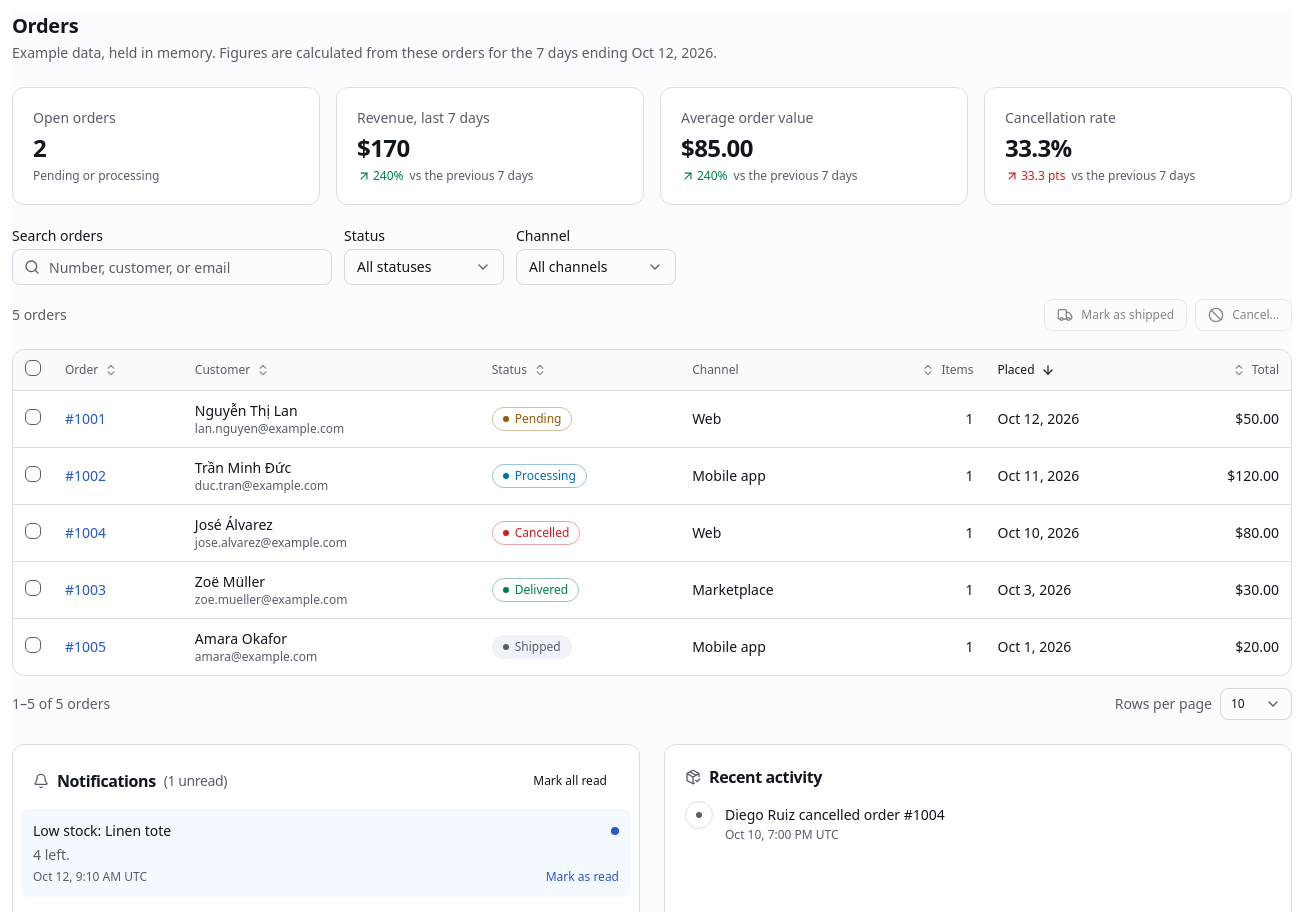
OrdersDashboard › drops selected rows that a new filter hides
Click the checkbox named "Select order #1001": (33,416) [25, 408, 41, 424]
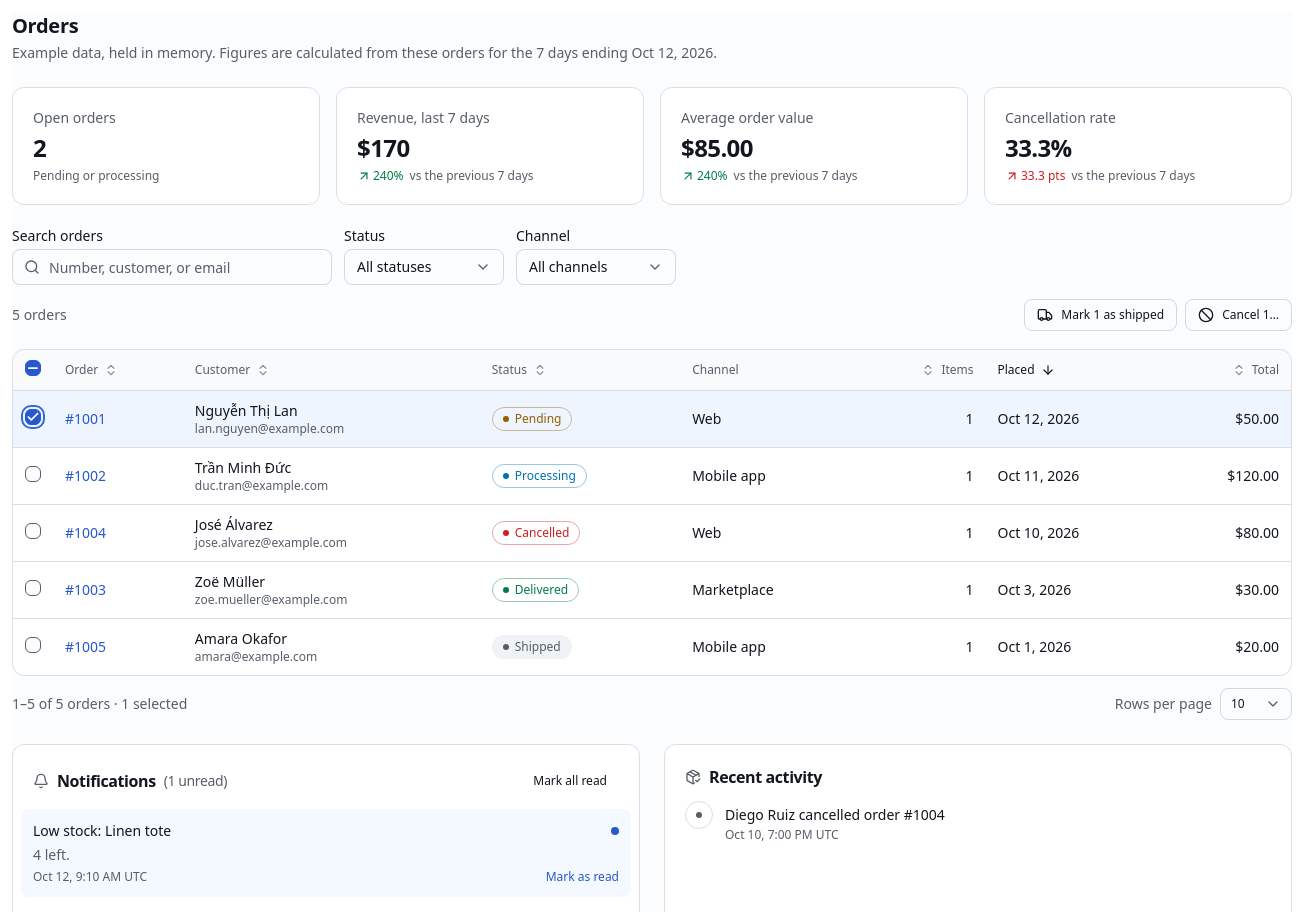
Click the checkbox named "Select order #1002": (33,474) [25, 466, 41, 482]
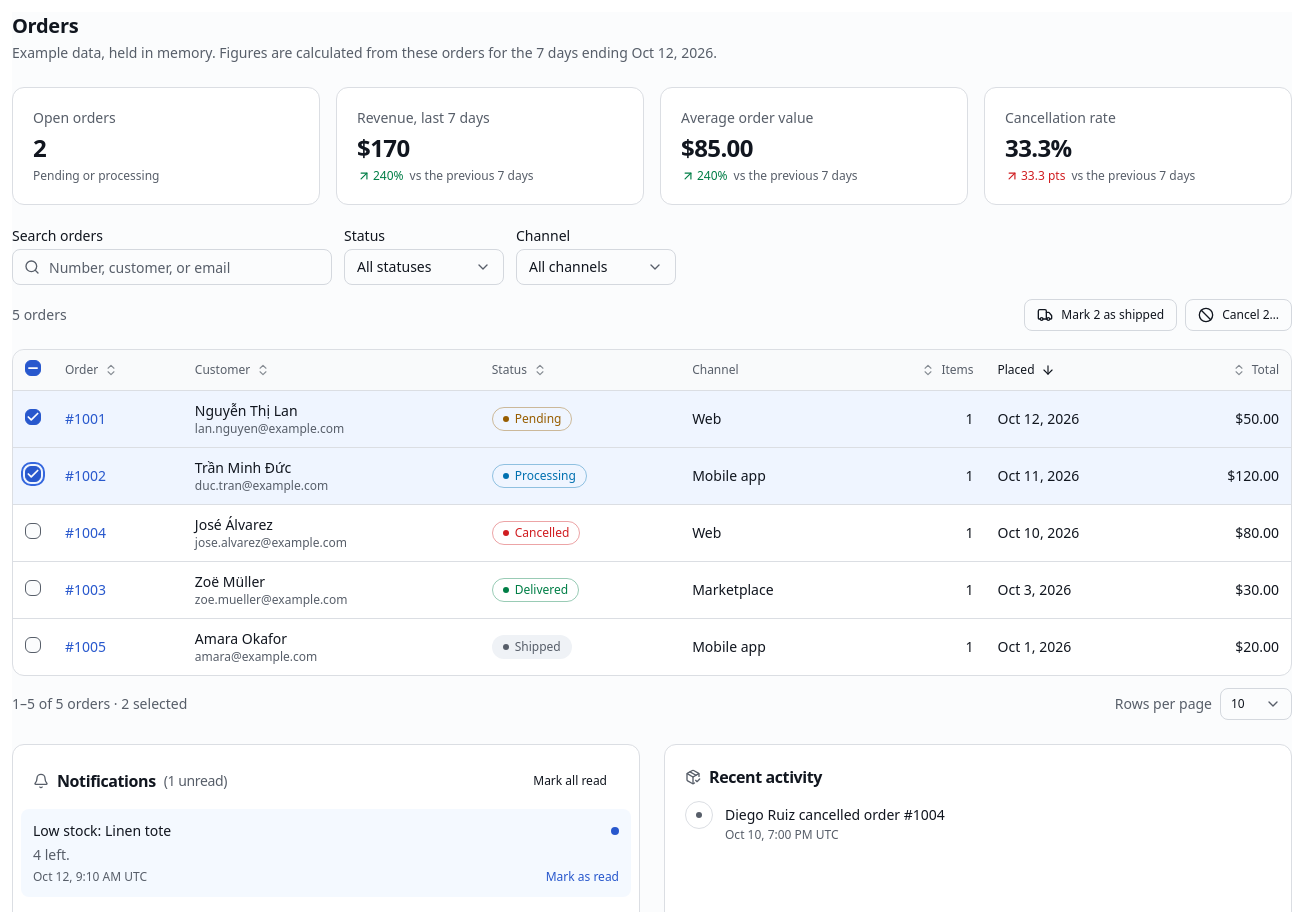
Check: the button "Mark 2 as shipped" is shown, box [1024, 299, 1177, 331]
In the search field labelled "Search orders": (172,267) [12, 249, 332, 285], type "duc"
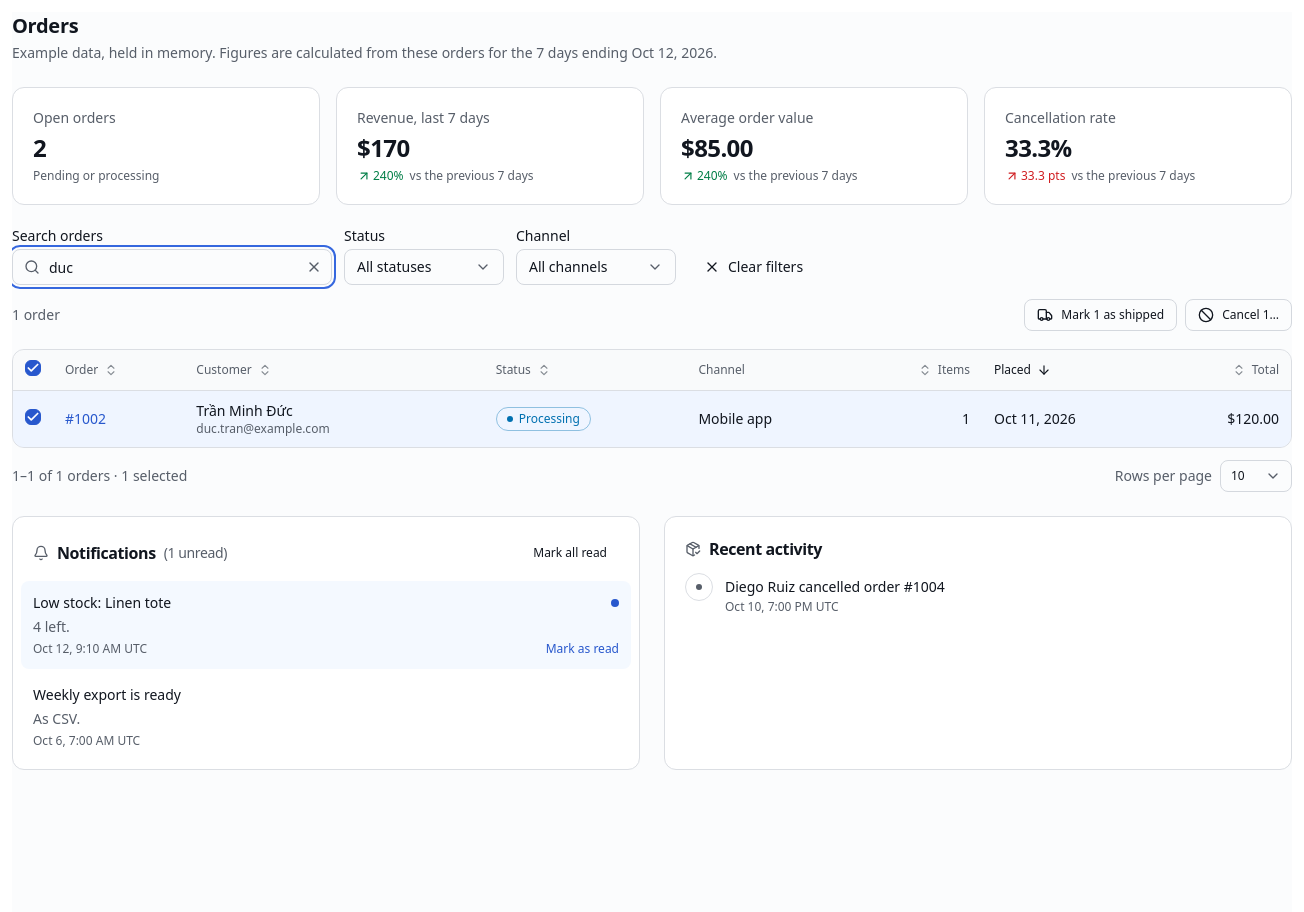
Check: the button "Mark 1 as shipped" is shown, box [1024, 299, 1177, 331]
Clear the search field labelled "Search orders": (172,267) [12, 249, 332, 285]
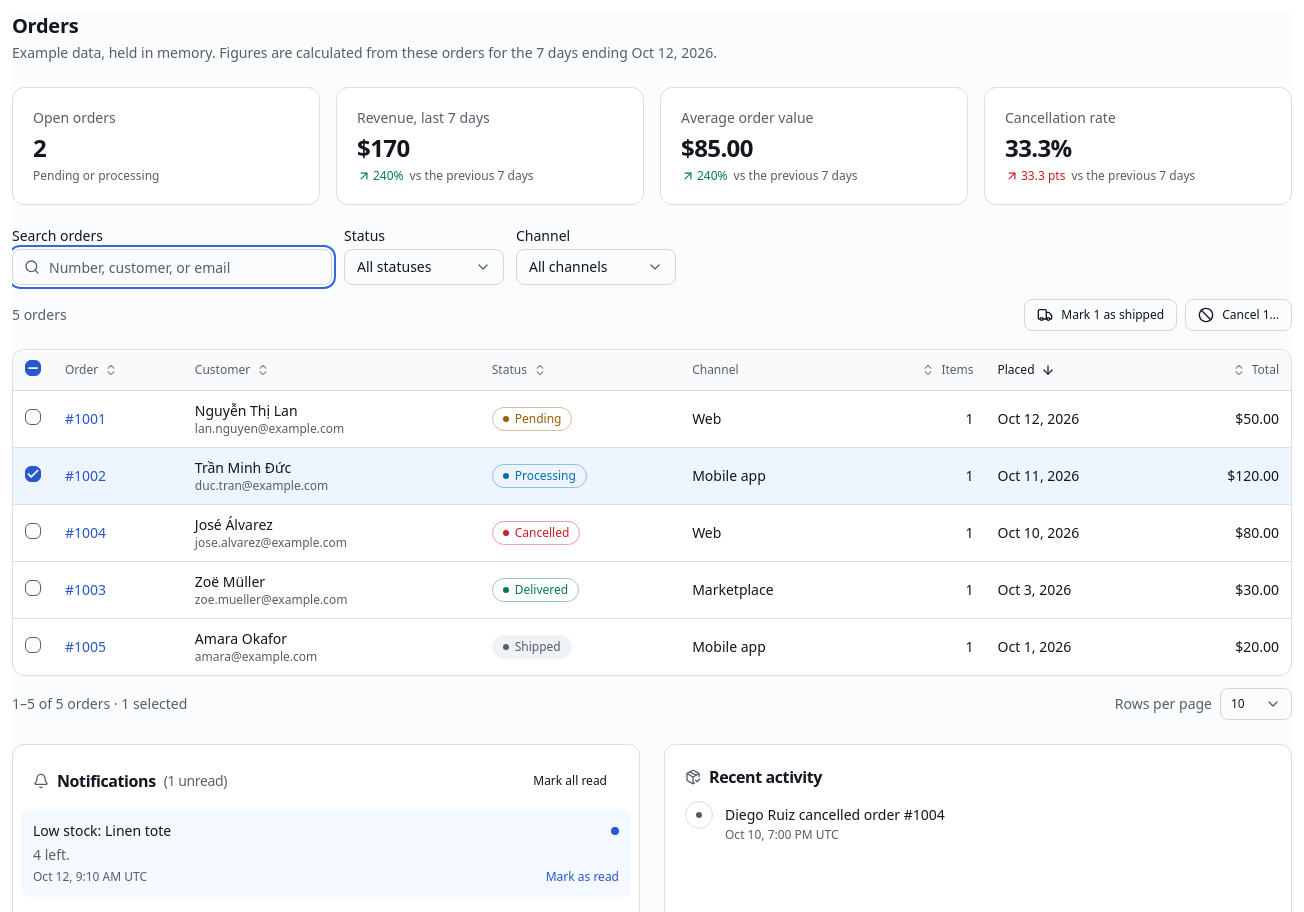
Check: the checkbox named "Select order #1001" is not checked, box [25, 408, 41, 424]
